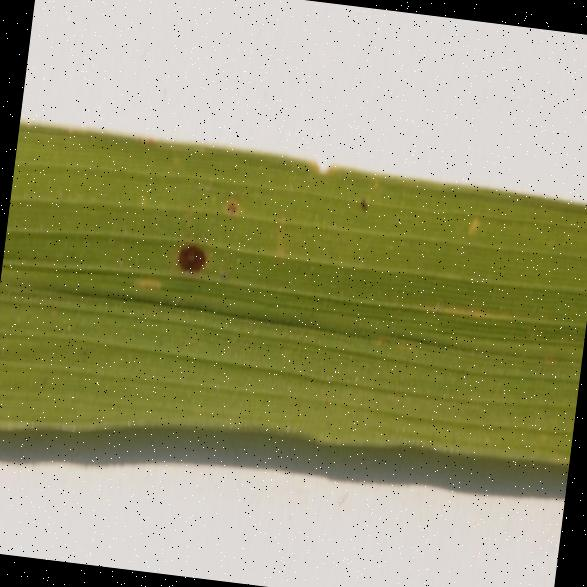Brown_Spot: (162, 202, 217, 290)
